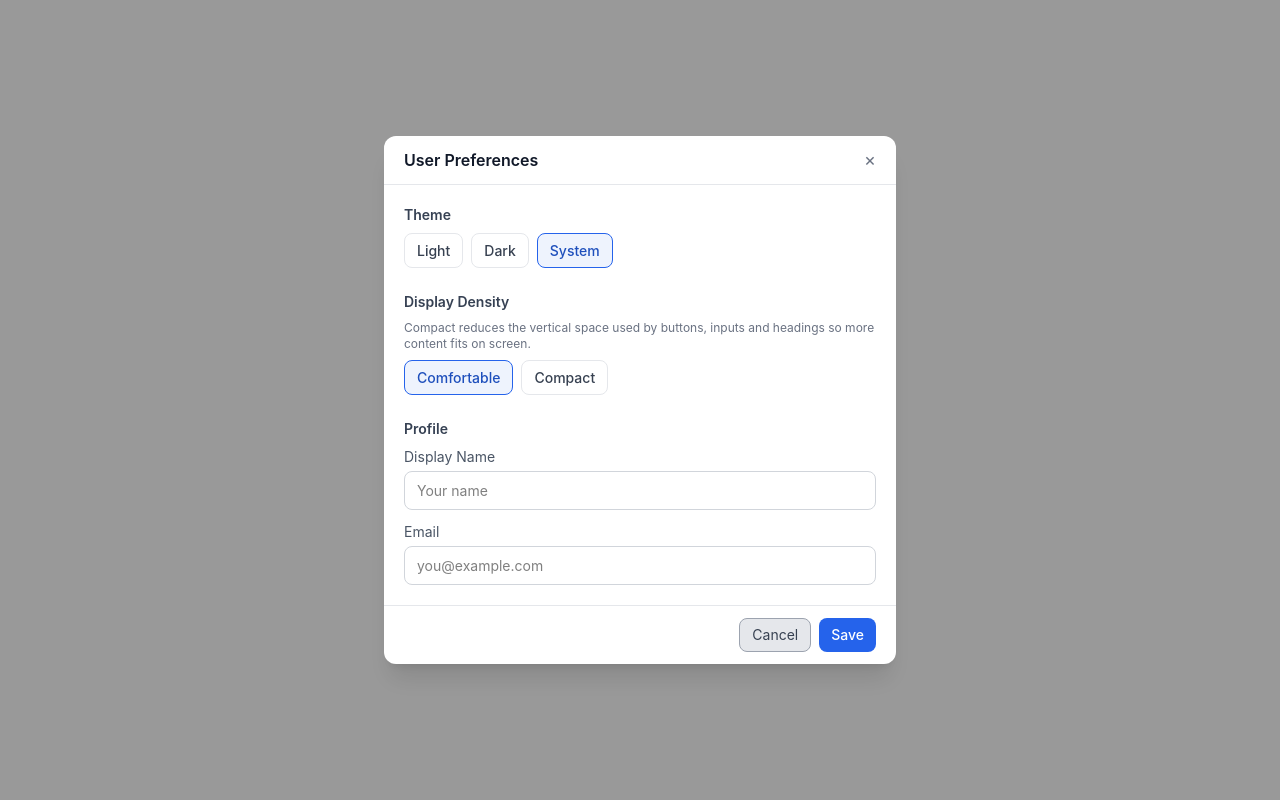
Scenario: UserPreferencesDialog density save behaviour › keeps the dialog open and shows error on save failure
Click the button "Compact": (565, 378) [521,360,608,395]
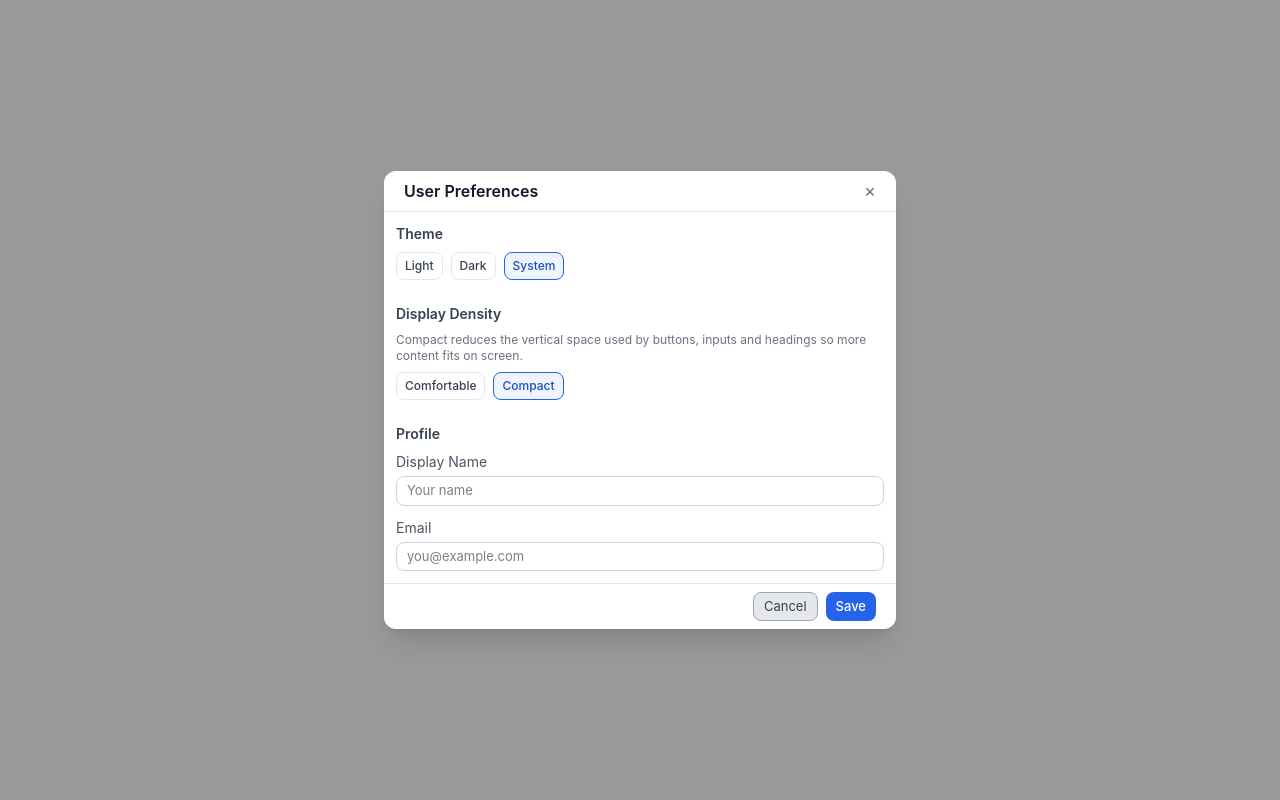
Click the button "Save": (851, 606) [826,592,876,621]
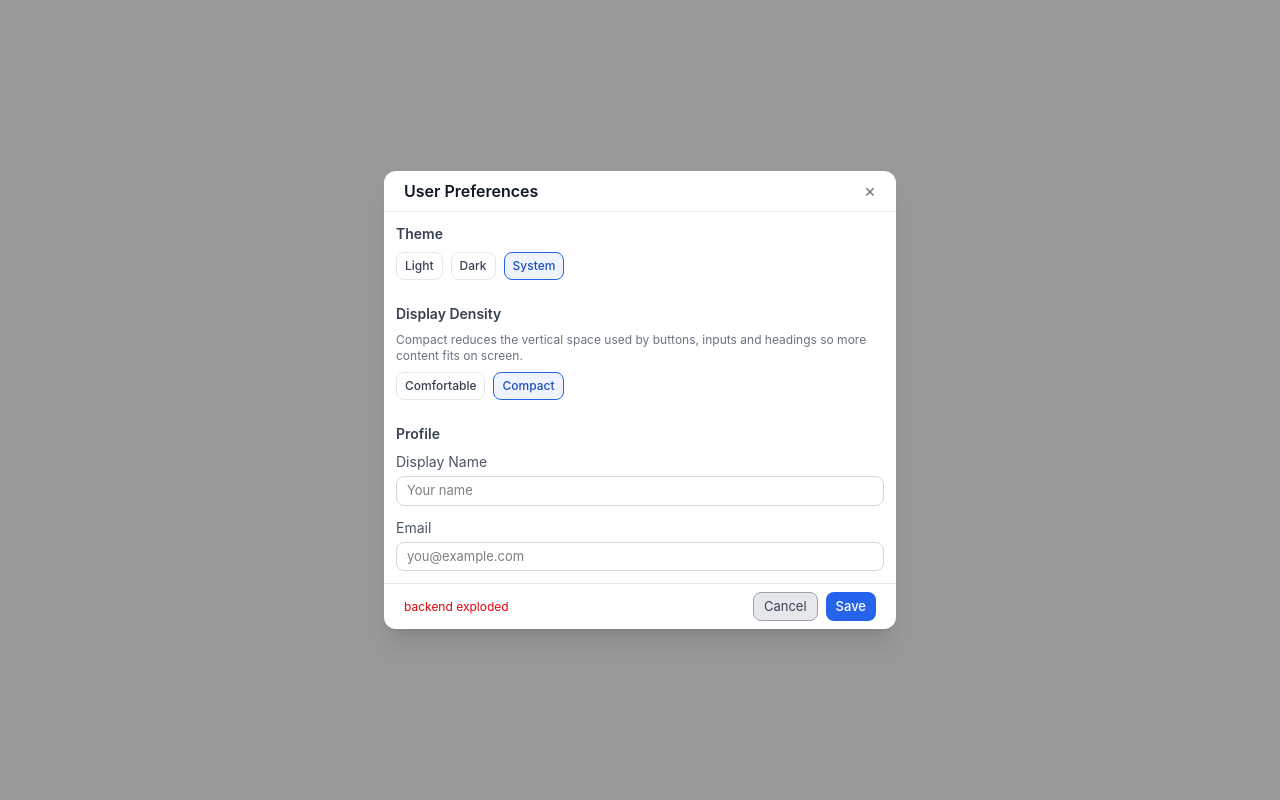
Check: the text "backend exploded" is shown, box [404,598,509,614]
